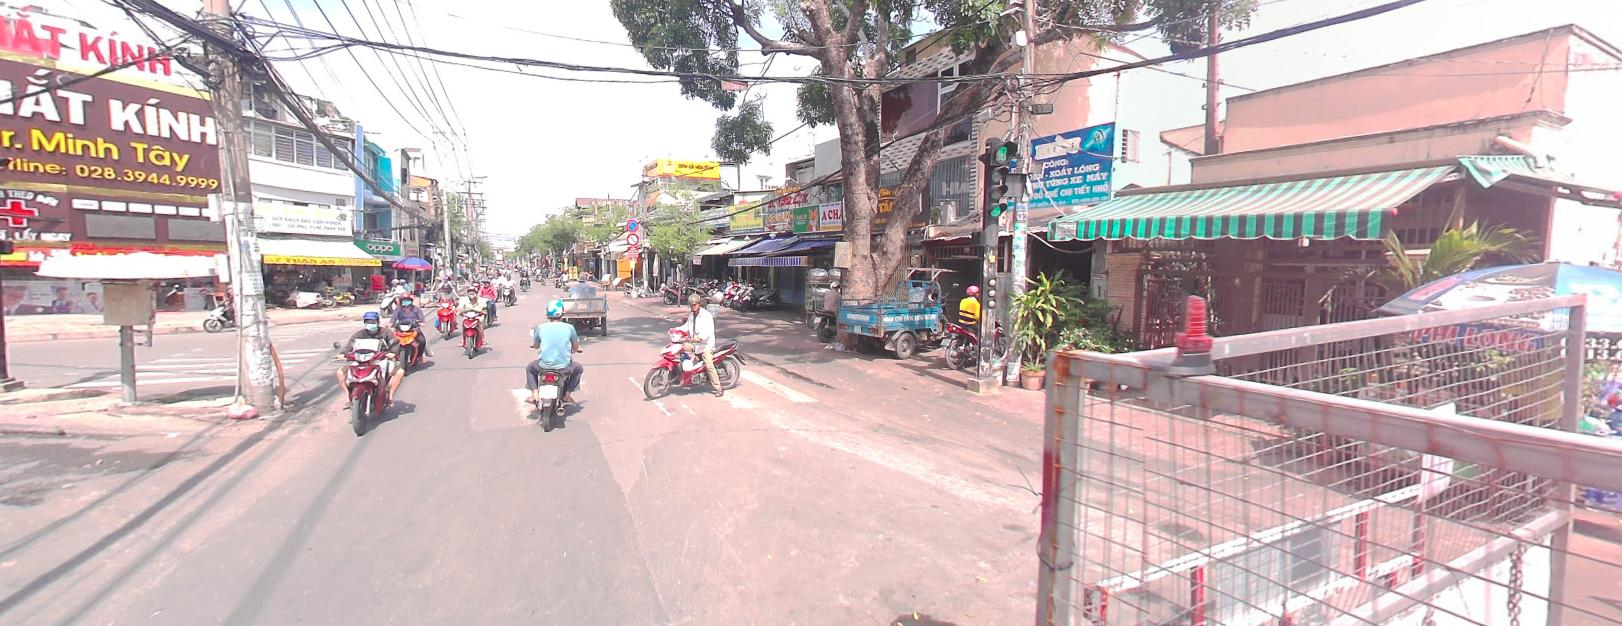Cam con lai: (626, 232, 638, 244)
Cam dung va do: (625, 217, 638, 229)
